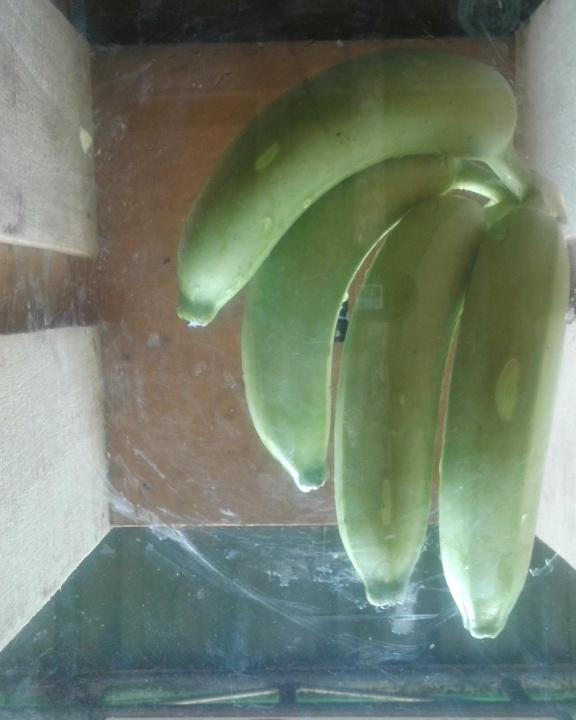SPOT: (164, 38, 576, 650)
